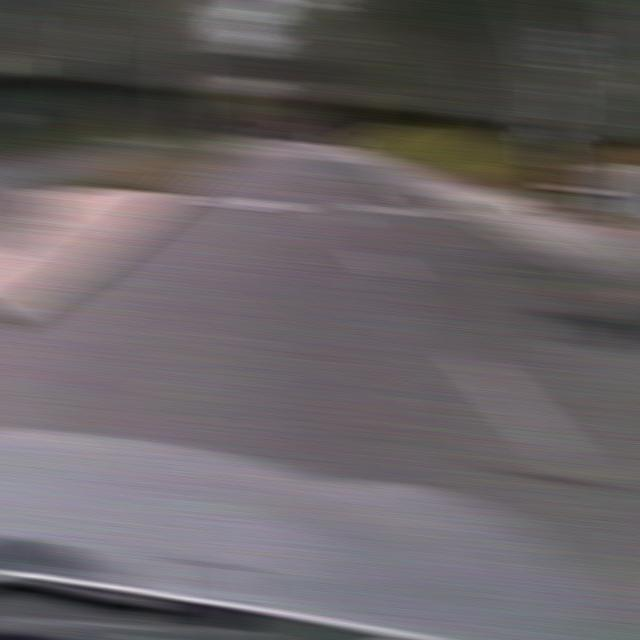speedLimit25: (540, 26, 589, 72)
